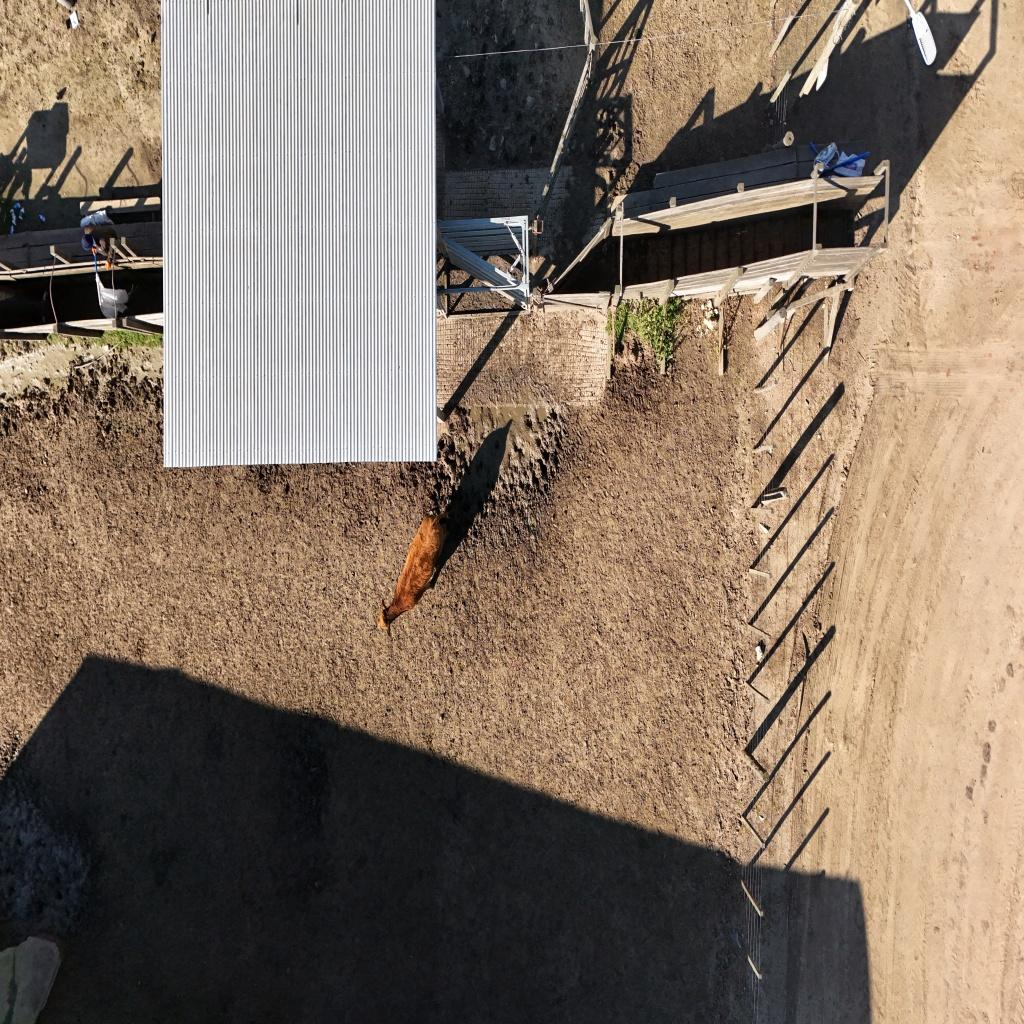cow: (364, 503, 472, 636)
